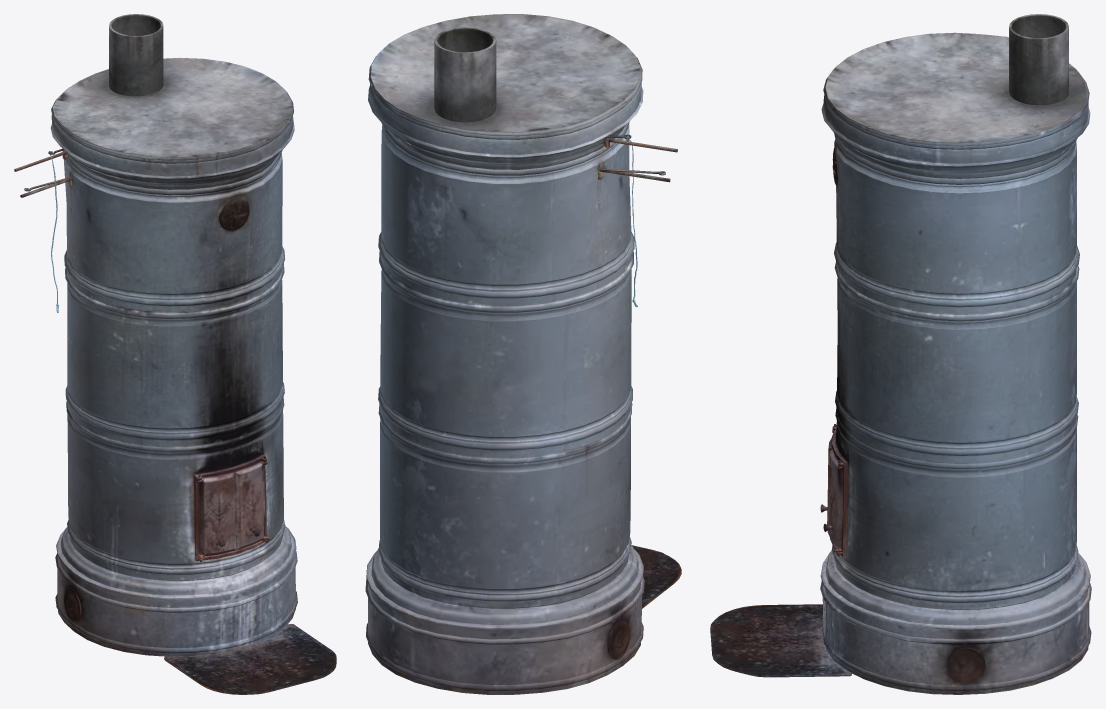
Rendered from radiator.glb.
3 renders of one model, left to right at view 1: azimuth 30°, elevation 25°; view 2: azimuth 150°, elevation 25°; view 3: azimuth 270°, elevation 25°, orthographic. The views are drawn at different scales.
Parts seen in each view (by area): view 1: scandinavian_masonry_heater; view 2: scandinavian_masonry_heater; view 3: scandinavian_masonry_heater.
Boxes of the visible parts, x1=… form: scandinavian_masonry_heater: x1=14, y1=14, x2=336, y2=694; scandinavian_masonry_heater: x1=365, y1=14, x2=681, y2=694; scandinavian_masonry_heater: x1=710, y1=14, x2=1091, y2=694.
Size of the model in its own units: 1.17 by 2.36 by 1.34.
1 material, 1 textured.
